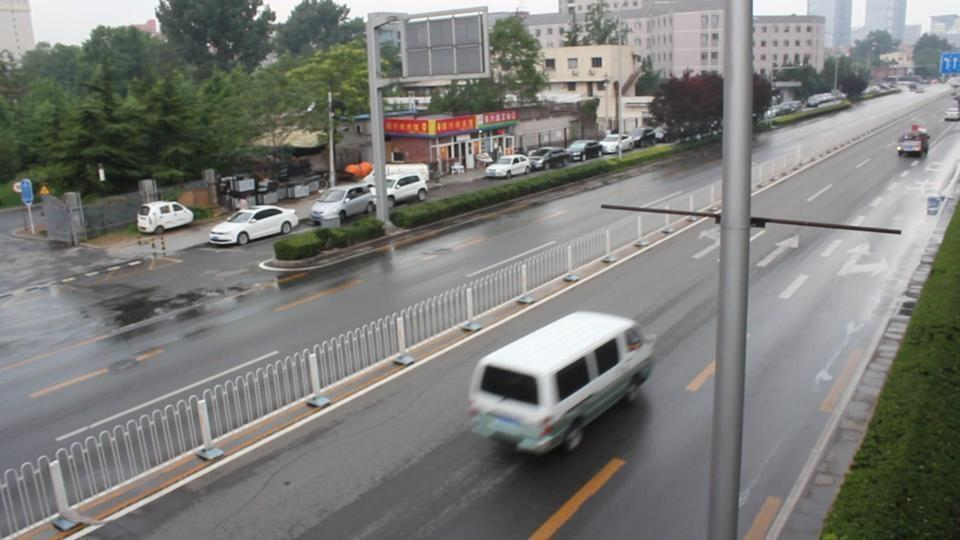car: (208, 206, 298, 247), (310, 185, 378, 227), (354, 170, 429, 206), (136, 201, 194, 234), (601, 130, 659, 153), (484, 154, 532, 179), (526, 147, 570, 172), (896, 129, 929, 158), (565, 139, 603, 163), (627, 127, 661, 149), (805, 90, 843, 109), (600, 134, 632, 156), (944, 106, 960, 122), (906, 81, 923, 92)
